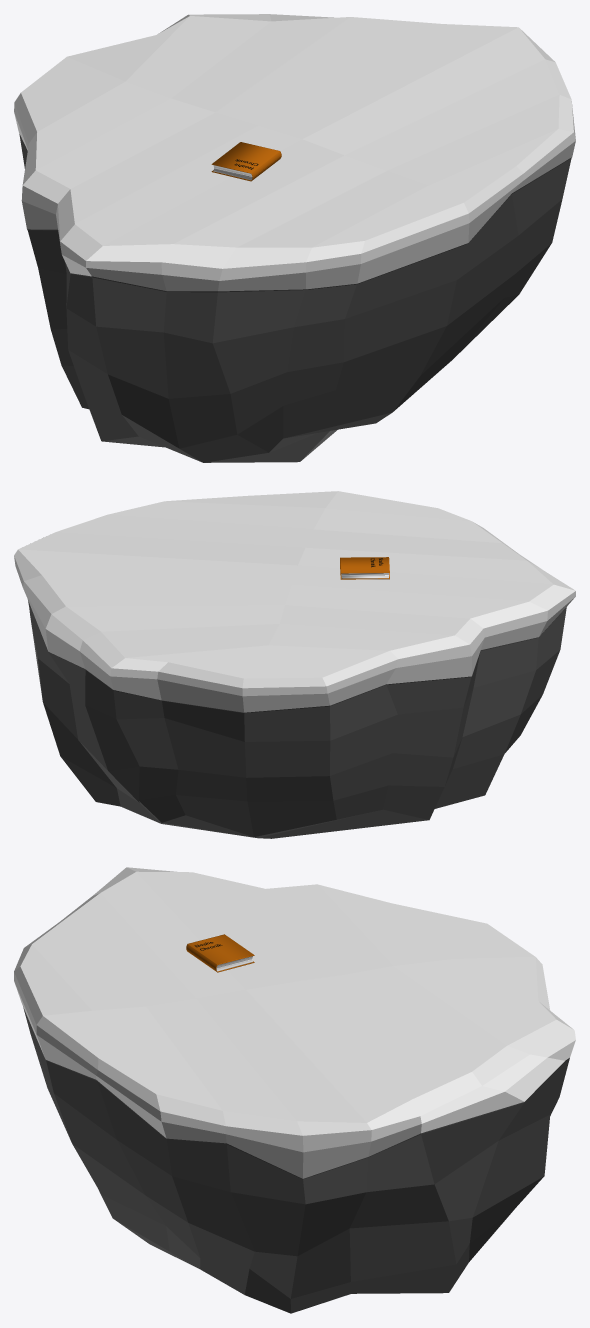
Rendered from island_and_book.fbx.
3 renders of one model, top to bottom at view 1: azimuth 30°, elevation 25°; view 2: azimuth 150°, elevation 25°; view 3: azimuth 270°, elevation 25°, orthographic. The views are drawn at different scales.
Visible parts, largest first — view 1: Island-Buch, SmallBookFrontSide; view 2: Island-Buch, SmallBookFrontSide; view 3: Island-Buch, SmallBookFrontSide.
Part boxes in pixels (x1,y1,x2,y2): Island-Buch: (14, 14, 575, 462); SmallBookFrontSide: (211, 142, 281, 177); Island-Buch: (14, 491, 575, 838); SmallBookFrontSide: (340, 557, 389, 575); Island-Buch: (14, 867, 575, 1313); SmallBookFrontSide: (186, 934, 254, 968).
Bounding box in the file's own units: 471 × 256 × 425.
6 materials, 1 textured.
